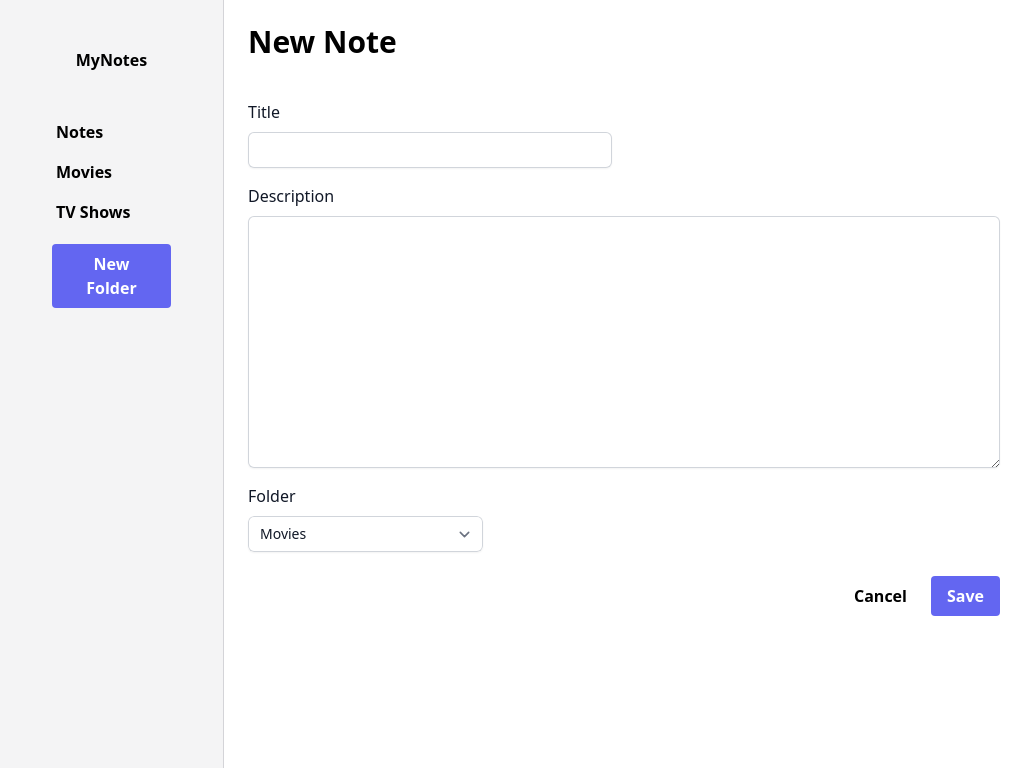
Test: should save the new note, when save button is clicked
Type "Interstellar" into the field labelled "Title" at (430, 150), box [248,132,612,168]
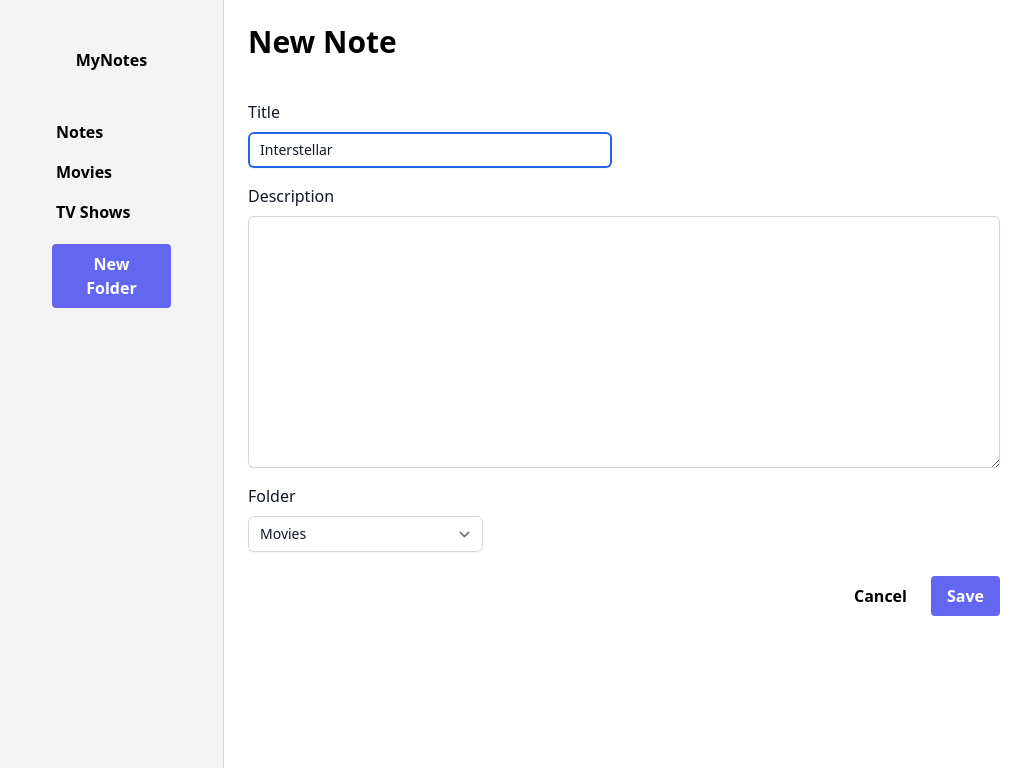
Type "Need to purchase the ticket for this" into the text box labelled "Description" at (624, 342), box [248,216,1000,468]
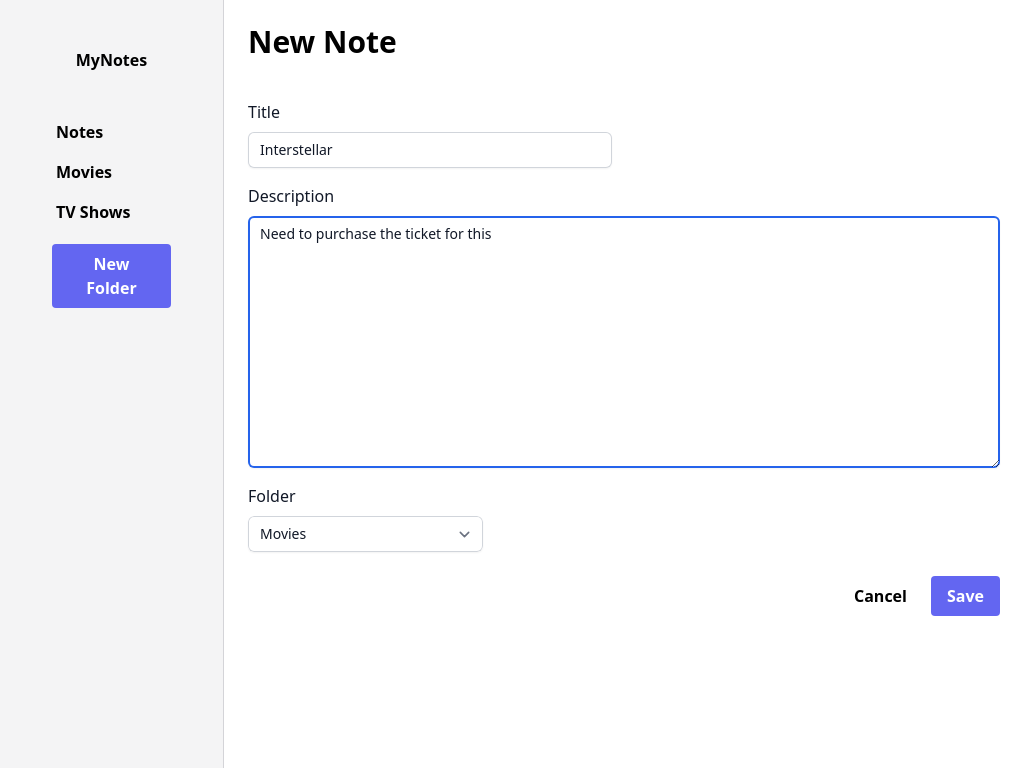
Click the button "Save" at (966, 596), box [931,576,1000,616]
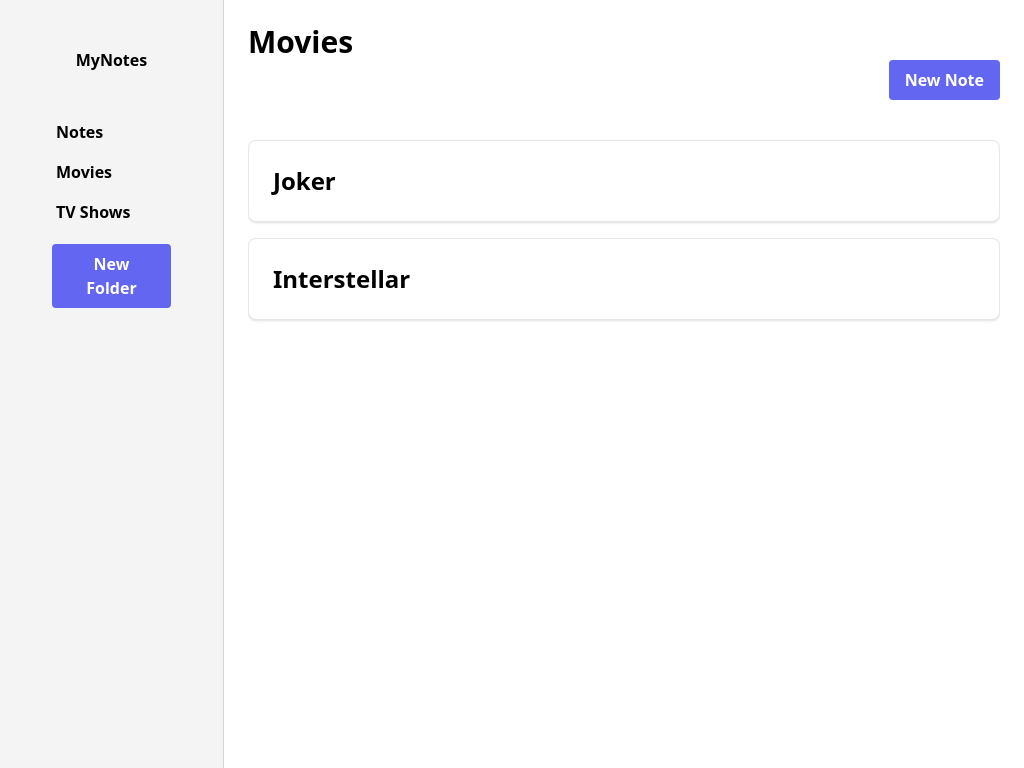
Check: the heading "Joker" is shown, box [273,164,336,197]
Check: the heading "Interstellar" is shown, box [273,262,410,295]
